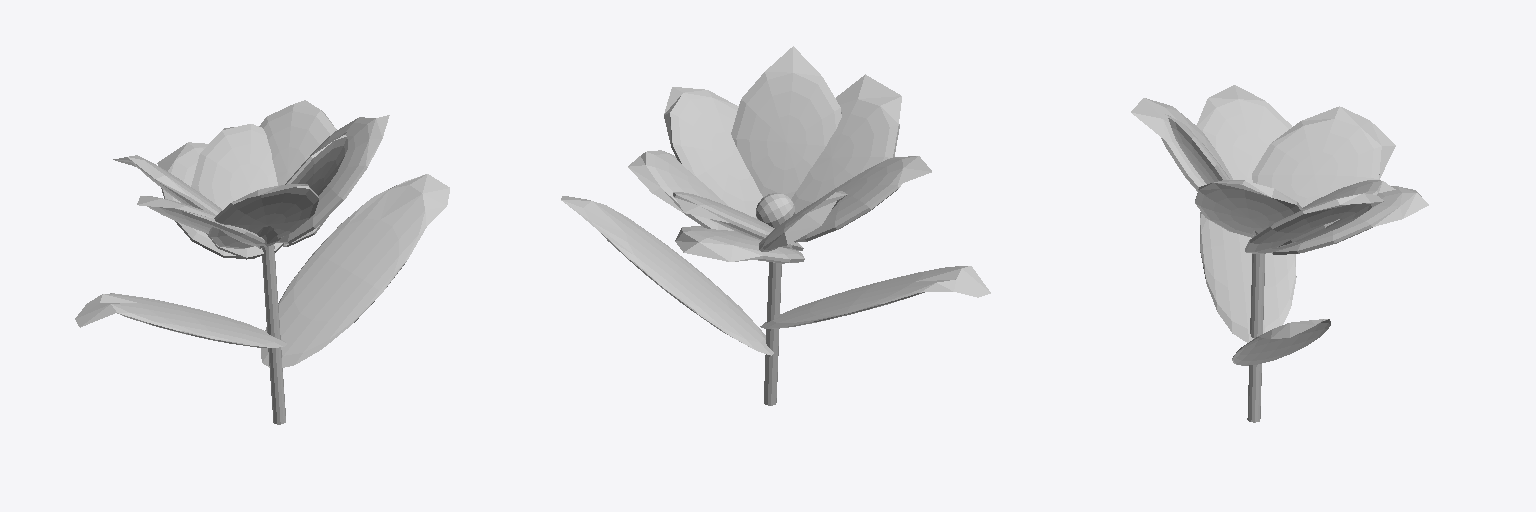
Rendered from flower.obj.
3 renders of one model, left to right at view 1: azimuth 30°, elevation 25°; view 2: azimuth 150°, elevation 25°; view 3: azimuth 270°, elevation 25°, orthographic.
Parts seen in each view (by area): view 1: group[number redacted], group[number redacted], group[number redacted], group[number redacted], group[number redacted], group[number redacted], group[number redacted], group[number redacted], group[number redacted], group[number redacted], group[number redacted]; view 2: group[number redacted], group[number redacted], group[number redacted], group[number redacted], group[number redacted], group[number redacted], group[number redacted], group[number redacted], group[number redacted], group[number redacted], group[number redacted], group[number redacted]; view 3: group[number redacted], group[number redacted], group[number redacted], group[number redacted], group[number redacted], group[number redacted], group[number redacted], group[number redacted], group[number redacted], group[number redacted], group[number redacted].
Boxes of the visible parts, <box> form: group[number redacted]: <box>261,174,449,367</box>; group[number redacted]: <box>191,124,283,259</box>; group[number redacted]: <box>75,293,286,347</box>; group[number redacted]: <box>209,184,318,248</box>; group[number redacted]: <box>259,100,336,246</box>; group[number redacted]: <box>276,115,389,243</box>; group[number redacted]: <box>262,244,285,424</box>; group[number redacted]: <box>257,132,347,248</box>; group[number redacted]: <box>137,196,267,246</box>; group[number redacted]: <box>157,142,256,258</box>; group[number redacted]: <box>113,155,222,214</box>; group[number redacted]: <box>731,46,841,198</box>; group[number redacted]: <box>561,196,773,355</box>; group[number redacted]: <box>664,87,762,218</box>; group[number redacted]: <box>791,74,901,213</box>; group[number redacted]: <box>760,266,990,328</box>; group[number redacted]: <box>794,156,931,242</box>; group[number redacted]: <box>628,150,733,230</box>; group[number redacted]: <box>675,226,804,263</box>; group[number redacted]: <box>673,192,803,250</box>; group[number redacted]: <box>759,191,847,251</box>; group[number redacted]: <box>764,262,781,405</box>; group[number redacted]: <box>756,193,794,228</box>; group[number redacted]: <box>1252,106,1395,207</box>; group[number redacted]: <box>1200,212,1296,342</box>; group[number redacted]: <box>1196,85,1291,182</box>; group[number redacted]: <box>1195,180,1302,237</box>; group[number redacted]: <box>1245,193,1383,253</box>; group[number redacted]: <box>1271,186,1428,254</box>; group[number redacted]: <box>1232,319,1330,365</box>; group[number redacted]: <box>1131,98,1232,191</box>; group[number redacted]: <box>1247,254,1264,422</box>; group[number redacted]: <box>1165,114,1257,235</box>; group[number redacted]: <box>1277,180,1395,247</box>.
Size of the model in its own units: 0.7004 by 0.5335 by 0.4537.